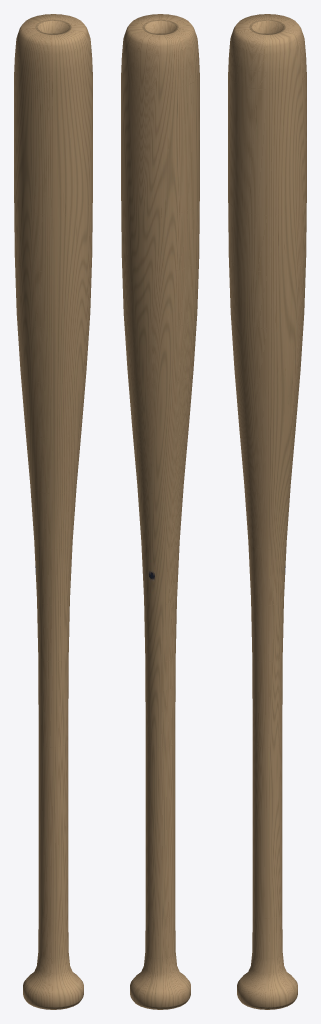
The model's file is bat.glb.
3 renders of one model, left to right at view 1: azimuth 90°, elevation 25°; view 2: azimuth 150°, elevation 25°; view 3: azimuth 270°, elevation 25°, orthographic.
Parts seen in each view (by area): view 1: Bat; view 2: Bat; view 3: Bat.
Boxes of the visible parts, bbox=[...] form: Bat: bbox=[14, 14, 92, 1009]; Bat: bbox=[121, 14, 199, 1009]; Bat: bbox=[228, 14, 306, 1009].
Bounding box in the file's own units: 0.0635 × 0.8636 × 0.0635.
Materials: 1 (1 with a texture image).
